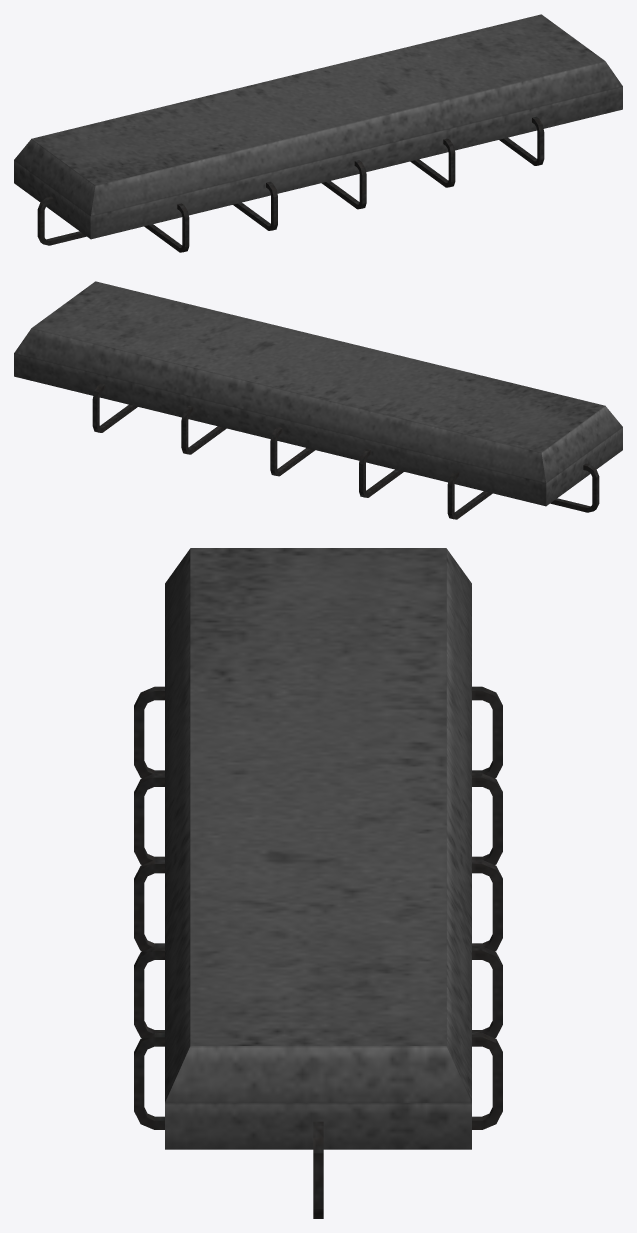
File: ceiling_lamp_4_1_on.dae
3 renders of one model, top to bottom at view 1: azimuth 30°, elevation 25°; view 2: azimuth 150°, elevation 25°; view 3: azimuth 270°, elevation 25°, orthographic. The views are drawn at different scales.
Visible parts, largest first — view 1: ceiling_lamp_4_1_on, ceiling_lamp_4_1_on_protector; view 2: ceiling_lamp_4_1_on, ceiling_lamp_4_1_on_protector; view 3: ceiling_lamp_4_1_on, ceiling_lamp_4_1_on_protector.
Boxes of the visible parts, x1,y1,x2,y2 form: ceiling_lamp_4_1_on: (14, 14, 622, 239); ceiling_lamp_4_1_on_protector: (37, 116, 544, 252); ceiling_lamp_4_1_on: (14, 281, 622, 506); ceiling_lamp_4_1_on_protector: (92, 383, 599, 519); ceiling_lamp_4_1_on: (165, 548, 471, 1149); ceiling_lamp_4_1_on_protector: (134, 686, 502, 1218).
Bounding box in the file's own units: 1.26 × 0.36 × 0.17.
2 materials, 2 textured.
